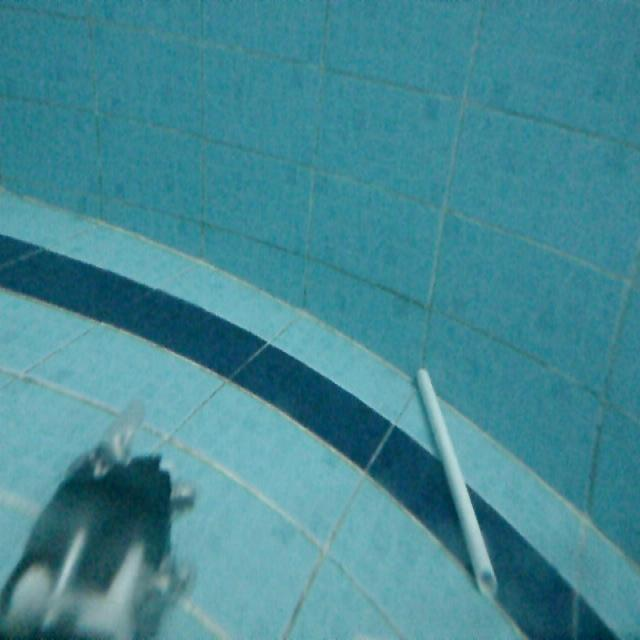Cube: (411, 360, 503, 600)
